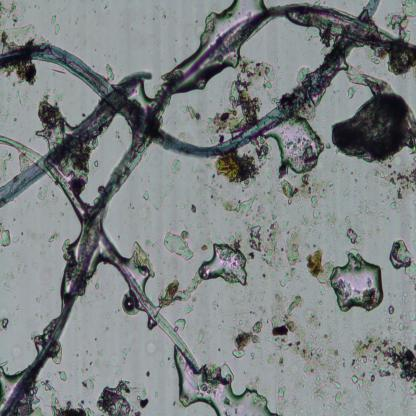Air bubble: (172, 0, 267, 89), (170, 345, 276, 415), (331, 252, 386, 312), (271, 118, 325, 178), (201, 241, 249, 289)
Background material: (268, 295, 346, 410), (206, 54, 273, 143), (330, 92, 416, 161), (349, 326, 416, 394), (247, 220, 304, 286), (276, 171, 334, 220), (368, 164, 416, 222), (30, 100, 75, 150), (385, 0, 416, 72), (163, 270, 198, 330), (141, 159, 183, 209), (36, 378, 92, 415), (93, 378, 148, 415), (214, 150, 268, 183), (216, 188, 268, 222), (385, 282, 416, 334), (346, 394, 416, 415), (233, 318, 265, 363), (0, 21, 45, 51), (388, 237, 416, 282), (307, 249, 337, 288), (228, 291, 265, 322), (162, 230, 194, 262), (5, 59, 41, 87), (341, 221, 364, 252), (121, 289, 142, 319), (0, 0, 21, 27), (114, 348, 129, 375), (181, 101, 203, 119), (0, 225, 13, 253), (49, 14, 61, 36), (145, 340, 160, 356), (0, 316, 10, 333)
Cellulose filter fibre: (0, 134, 199, 369), (348, 64, 392, 91)
Cotton: (0, 0, 380, 158), (0, 70, 148, 210)
